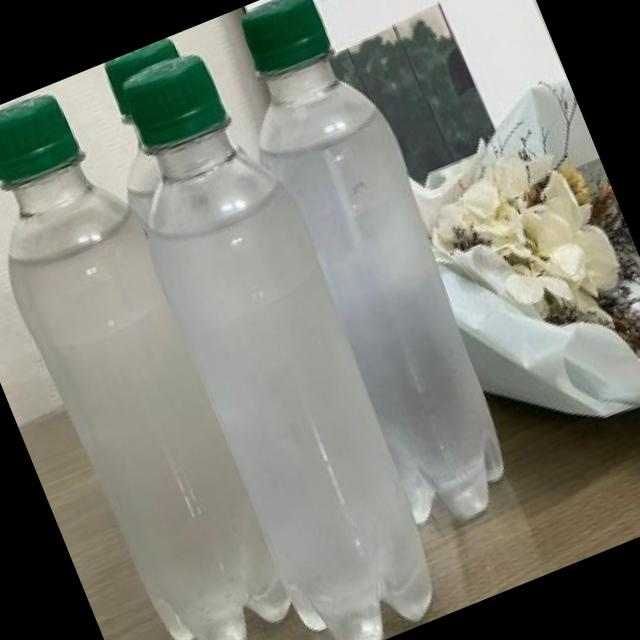BotolPlastik: (81, 29, 462, 640), (205, 0, 541, 542), (0, 73, 306, 640)
